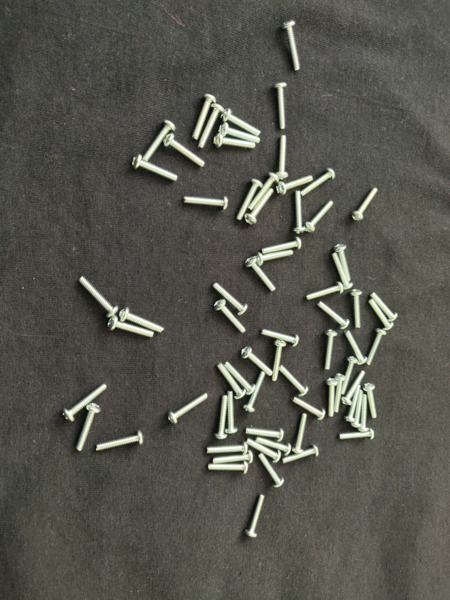longscrew: (76, 276, 120, 319), (62, 384, 108, 423), (163, 133, 205, 169), (141, 119, 176, 162), (131, 154, 179, 183), (167, 392, 209, 425), (75, 403, 102, 453), (247, 172, 280, 212), (197, 103, 225, 149), (119, 307, 166, 334), (211, 282, 248, 316), (235, 179, 264, 222), (213, 299, 248, 334), (191, 94, 217, 141), (216, 361, 247, 400), (244, 188, 275, 227), (94, 430, 144, 454), (221, 107, 262, 136), (223, 361, 256, 396), (107, 315, 155, 339), (245, 256, 277, 292), (242, 371, 267, 415), (300, 168, 336, 198), (240, 346, 274, 377), (279, 364, 310, 398), (316, 300, 350, 331), (350, 187, 380, 222), (304, 200, 334, 234), (282, 19, 301, 72), (245, 495, 267, 540), (330, 252, 355, 291), (246, 438, 282, 465), (258, 453, 285, 489), (218, 122, 261, 144), (370, 291, 399, 323), (343, 330, 368, 367), (341, 371, 367, 406), (290, 397, 326, 422), (365, 328, 388, 367), (368, 298, 395, 331), (276, 174, 314, 197), (282, 443, 320, 465), (212, 395, 230, 440), (254, 436, 292, 457), (261, 328, 300, 348), (343, 385, 363, 424), (255, 247, 294, 267), (306, 282, 344, 302), (332, 244, 352, 282), (291, 413, 309, 455), (183, 195, 230, 211), (262, 237, 303, 255), (213, 133, 256, 150), (341, 356, 359, 396), (322, 329, 339, 371), (271, 340, 287, 383), (291, 190, 306, 235), (276, 135, 291, 180), (224, 391, 239, 435), (349, 289, 365, 330), (275, 81, 288, 131), (206, 461, 249, 476), (206, 441, 249, 456), (245, 427, 285, 443), (362, 382, 379, 419), (212, 450, 253, 465), (350, 389, 365, 429), (333, 373, 347, 414), (338, 428, 376, 443), (326, 377, 339, 419), (357, 393, 371, 432)
